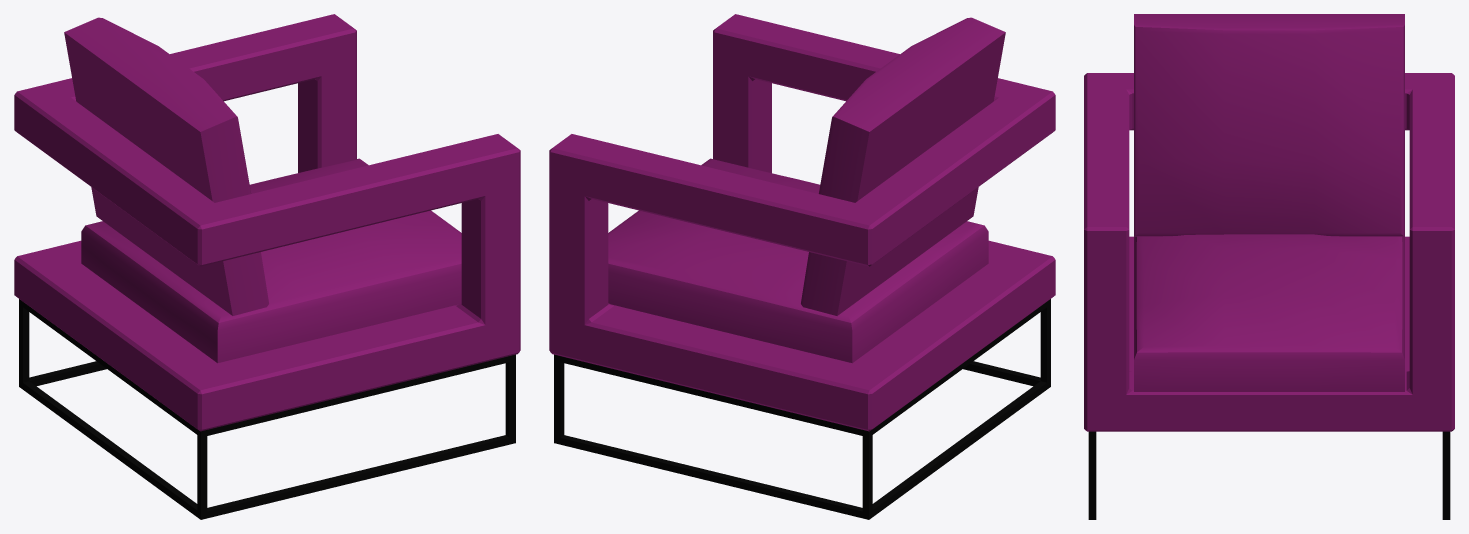
File: Chair 1 Pink.glb
3 renders of one model, left to right at view 1: azimuth 30°, elevation 25°; view 2: azimuth 150°, elevation 25°; view 3: azimuth 270°, elevation 25°, orthographic.
Parts seen in each view (by area): view 1: Chair 1; view 2: Chair 1; view 3: Chair 1.
Boxes of the visible parts, <box> form: Chair 1: <box>14,14,520,519</box>; Chair 1: <box>549,14,1055,519</box>; Chair 1: <box>1084,14,1454,519</box>.
Size of what is drawn, in the model's own units: 1.25 by 1.38 by 1.25.
1 material, 1 textured.
